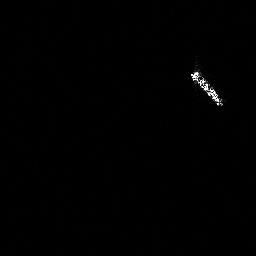ship: (187, 67, 227, 110)
